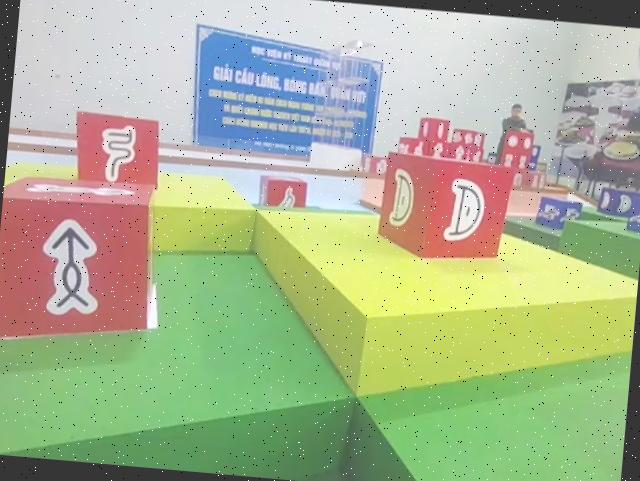R2 Fake: (70, 105, 166, 197)
R2 Real: (0, 168, 166, 356), (372, 147, 520, 269), (257, 169, 310, 214)
